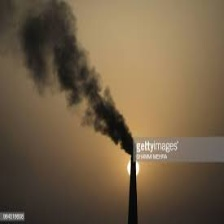smoke: (13, 6, 133, 156)
